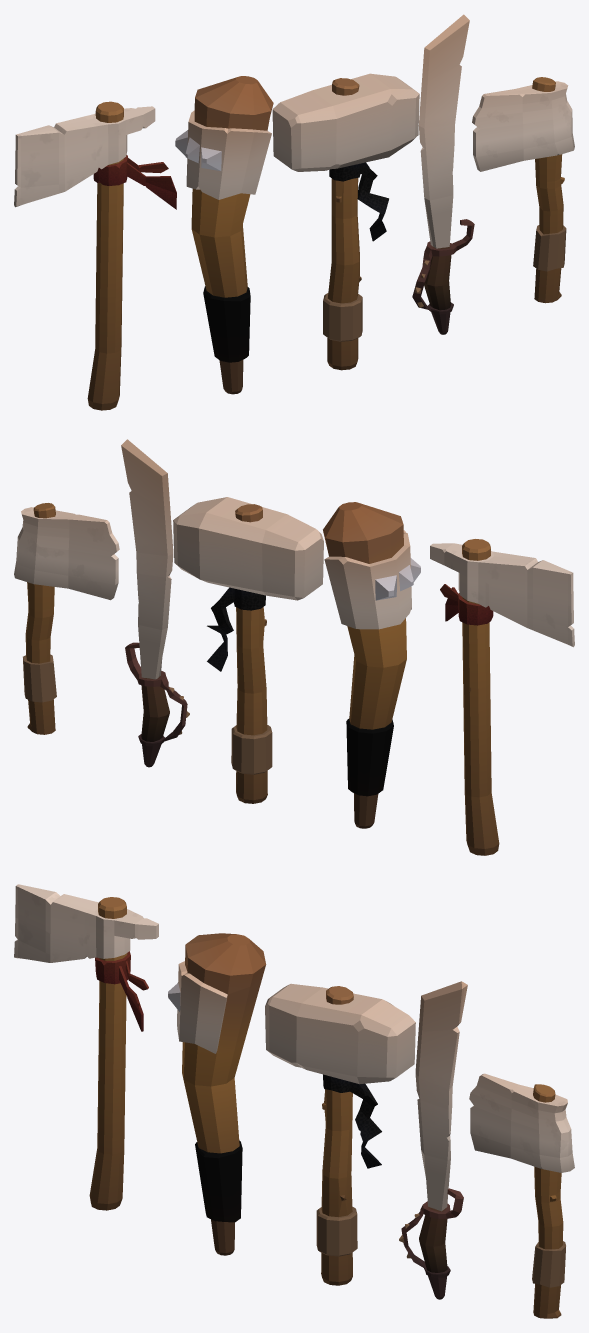
Rendered from pack.glb.
The picture shows the model from 3 angles, top to bottom: view 1: azimuth 30°, elevation 25°; view 2: azimuth 150°, elevation 25°; view 3: azimuth 330°, elevation 25°; orthographic projection. The views are drawn at different scales.
Visible parts, largest first — view 1: Hammer, Club, Metal Axe, Stone Axe, Saber; view 2: Hammer, Club, Metal Axe, Stone Axe, Saber; view 3: Hammer, Club, Metal Axe, Stone Axe, Saber.
Boxes of the visible parts, <box> form: Hammer: <box>272,73,419,370</box>; Club: <box>175,76,273,394</box>; Metal Axe: <box>14,101,176,410</box>; Stone Axe: <box>472,77,574,303</box>; Saber: <box>412,14,474,334</box>; Hammer: <box>173,497,323,803</box>; Club: <box>323,502,420,828</box>; Metal Axe: <box>430,539,574,855</box>; Stone Axe: <box>14,503,119,734</box>; Saber: <box>121,439,189,767</box>; Hammer: <box>265,983,415,1285</box>; Club: <box>168,933,266,1255</box>; Metal Axe: <box>14,884,158,1210</box>; Stone Axe: <box>469,1073,574,1318</box>; Saber: <box>399,981,467,1299</box>.
Bounding box in the file's own units: 3.04 × 1.69 × 0.4262.
1 material, 1 textured.
